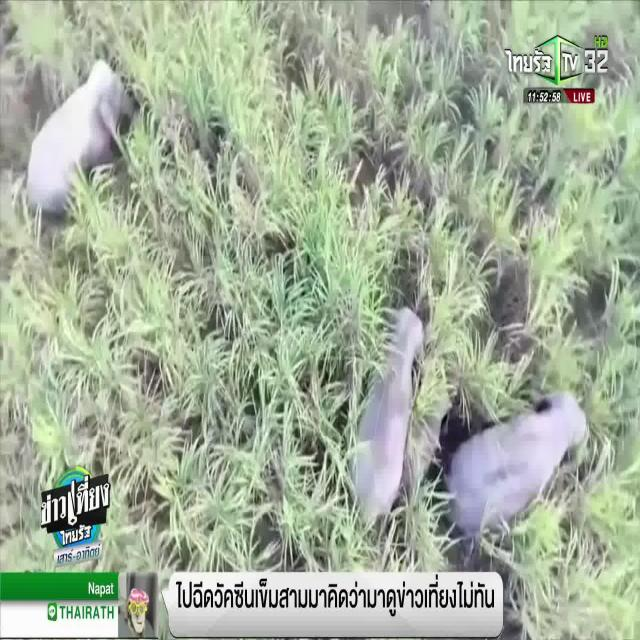Elephant: (459, 378, 567, 531), (23, 71, 141, 189), (362, 311, 412, 523), (405, 393, 448, 476)
